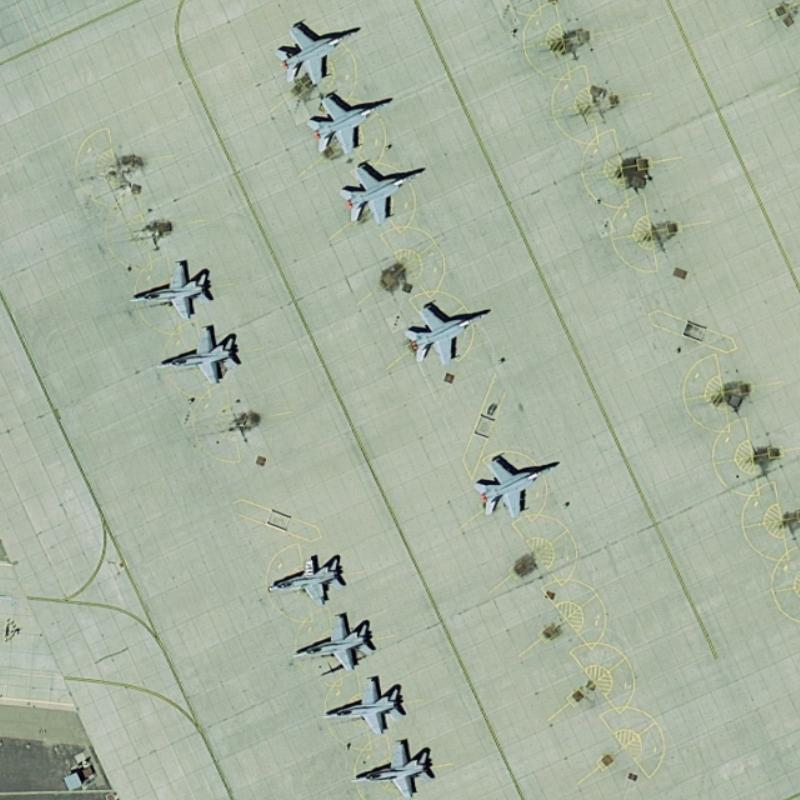A16: (264, 10, 366, 91), (331, 154, 431, 230), (299, 86, 400, 157), (470, 448, 566, 521), (148, 320, 246, 388), (403, 294, 494, 367), (125, 252, 217, 321), (342, 735, 437, 799), (285, 609, 378, 673), (316, 672, 409, 734), (263, 549, 353, 604)
